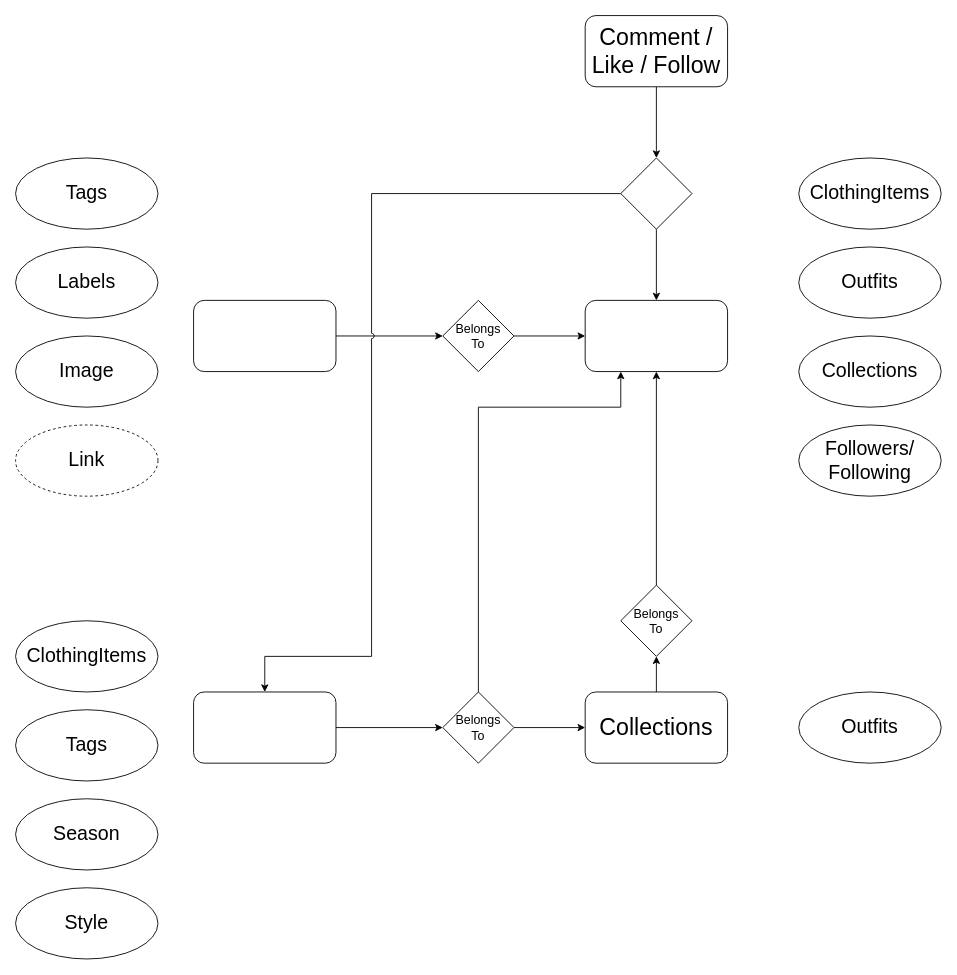
The diagram is 957 pixels wide and 975 high, and some of its shapes have lost their labels. The shapes that lost their labels are listed below. From the top down, each one's centre as x and y in pixels, then its label:
At pixel 656 193: "Linked To".
At pixel 264 335: "ClothingItem".
At pixel 656 335: "User".
At pixel 264 727: "Outfit".
